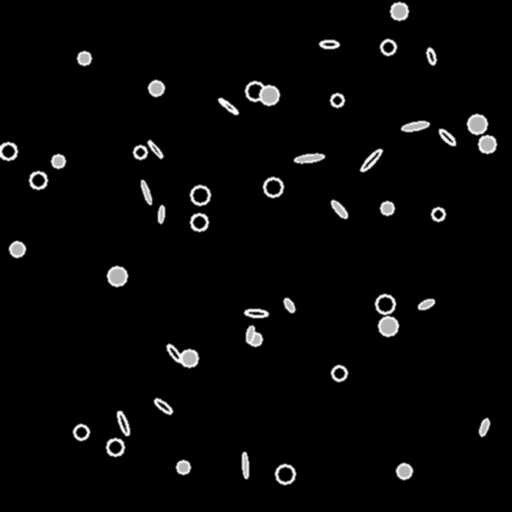pseudomonas: (359, 147, 383, 173), (165, 343, 183, 363), (437, 128, 457, 146), (218, 97, 238, 115), (330, 199, 348, 219), (153, 397, 173, 415), (401, 120, 429, 132), (116, 411, 130, 435), (294, 153, 324, 163), (147, 140, 163, 158), (140, 180, 152, 204), (417, 297, 435, 311), (282, 297, 296, 313), (478, 418, 490, 436), (425, 47, 437, 65), (244, 309, 268, 317), (245, 325, 255, 343), (242, 453, 248, 477), (319, 41, 339, 47), (158, 206, 164, 222)
synechocystis: (276, 465, 294, 483), (468, 115, 486, 133), (246, 82, 264, 100), (376, 295, 394, 313), (191, 186, 209, 204), (379, 317, 397, 335), (264, 178, 282, 196), (260, 86, 278, 104), (108, 267, 126, 285), (30, 172, 46, 188), (479, 136, 495, 152), (391, 3, 407, 19), (107, 439, 123, 455), (181, 350, 197, 366), (0, 143, 16, 159), (191, 214, 207, 230), (332, 366, 346, 380), (381, 40, 395, 54), (397, 464, 411, 478), (10, 242, 24, 256), (149, 81, 163, 95), (74, 425, 88, 439), (432, 208, 444, 220), (78, 52, 90, 64), (52, 155, 64, 167), (381, 202, 393, 214), (177, 461, 189, 473), (134, 146, 146, 158), (249, 333, 261, 345), (331, 94, 343, 106)
